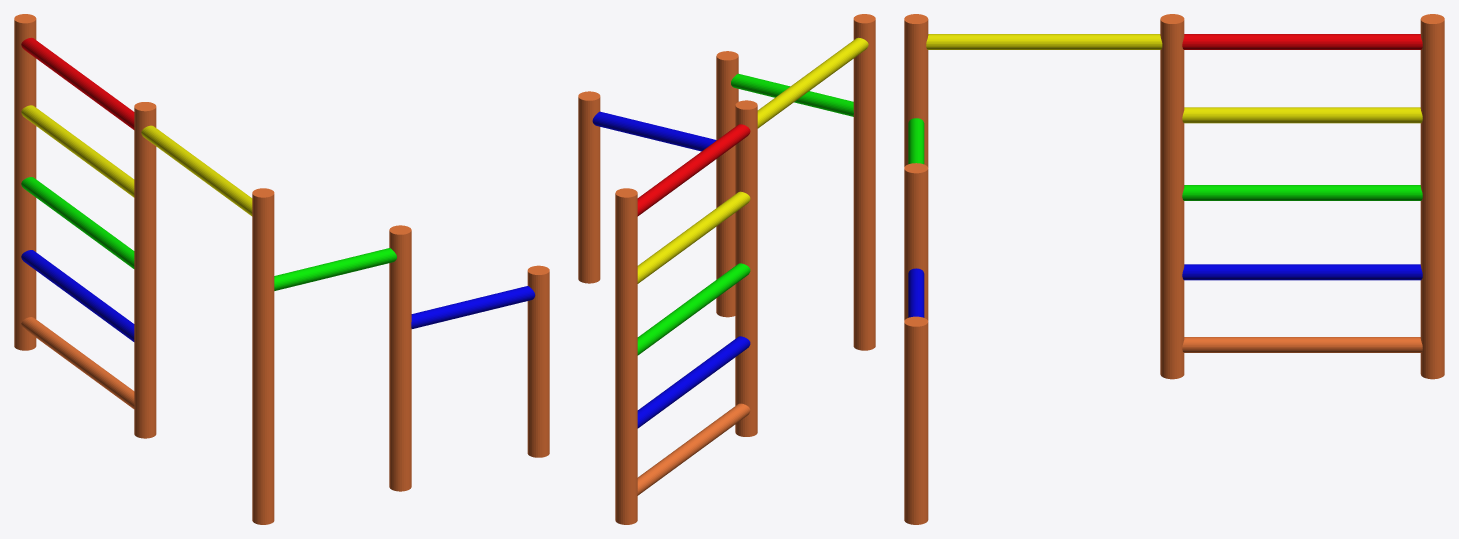
The model's file is Panjat.fbx.
The picture shows the model from 3 angles, left to right: view 1: azimuth 30°, elevation 25°; view 2: azimuth 150°, elevation 25°; view 3: azimuth 270°, elevation 25°; orthographic projection. The views are drawn at different scales.
Visible parts, largest first — view 1: Cylinder.013; view 2: Cylinder.013; view 3: Cylinder.013.
Boxes of the visible parts, x1,y1,x2,y2 form: Cylinder.013: (14, 14, 549, 524); Cylinder.013: (578, 14, 875, 524); Cylinder.013: (904, 14, 1444, 524).
Size of the model in its own units: 425 by 451 by 622.
